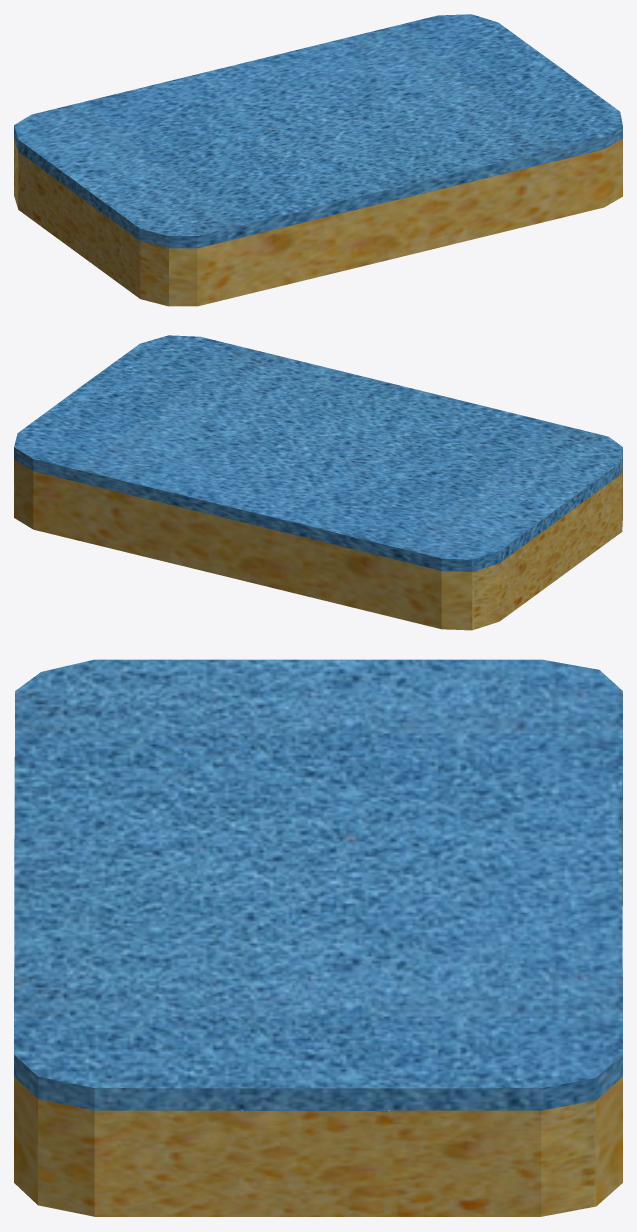
The model's file is sweethome3d-contributions-sponge.glb.
3 renders of one model, top to bottom at view 1: azimuth 30°, elevation 25°; view 2: azimuth 150°, elevation 25°; view 3: azimuth 270°, elevation 25°, orthographic. The views are drawn at different scales.
Parts seen in each view (by area): view 1: avant_arriere_1, cote, cote_1, cote_3, cote_2; view 2: avant_arriere_1, cote, cote_1, cote_3, cote_2; view 3: avant_arriere_1, cote_1, cote_2, cote, cote_3.
Boxes of the visible parts, box(x1,y1,x2,y2) form: avant_arriere_1: box(14, 14, 622, 235); cote: box(169, 139, 622, 306); cote_1: box(14, 138, 168, 306); cote_3: box(169, 126, 622, 248); cote_2: box(14, 126, 168, 248); avant_arriere_1: box(14, 335, 622, 559); cote: box(14, 460, 472, 630); cote_1: box(472, 462, 622, 630); cote_3: box(14, 447, 472, 571); cote_2: box(472, 450, 622, 571); avant_arriere_1: box(14, 659, 622, 1088); cote_1: box(38, 1099, 596, 1216); cote_2: box(38, 1076, 596, 1110); cote: box(14, 800, 622, 1205); cote_3: box(14, 778, 622, 1099).
Size of the model in its own units: 10 by 1.4 by 6.
2 materials, 2 textured.
